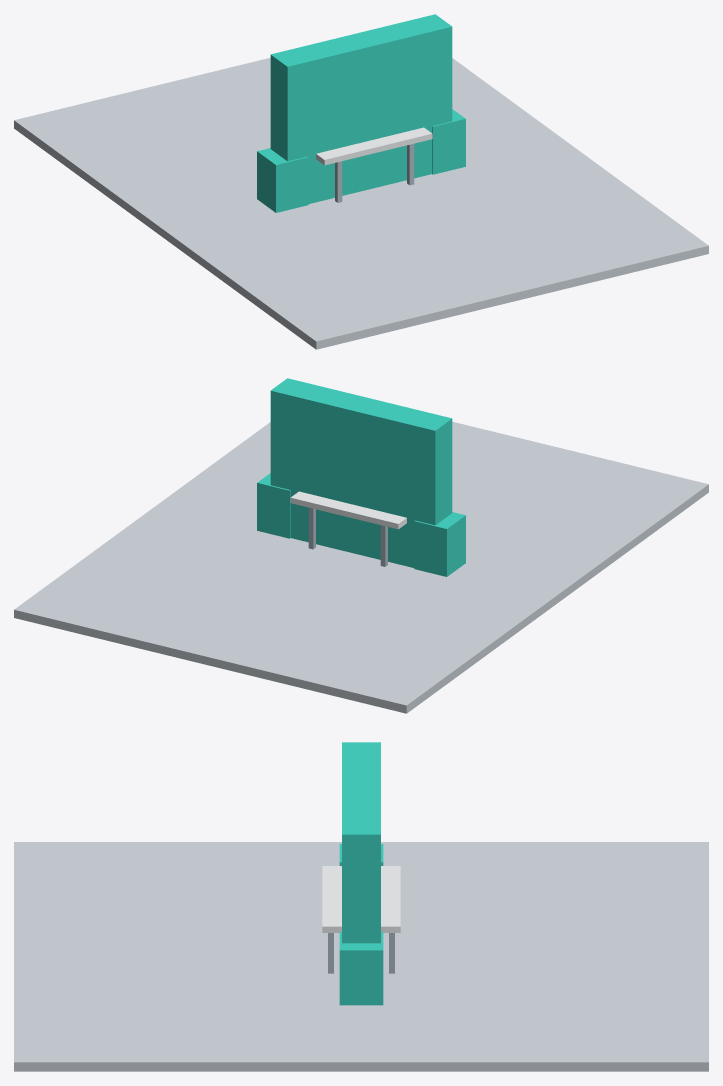
The picture shows the model from 3 angles, top to bottom: view 1: azimuth 30°, elevation 25°; view 2: azimuth 150°, elevation 25°; view 3: azimuth 270°, elevation 25°; orthographic projection. The views are drawn at different scales.
Visible parts, largest first — view 1: Exhibition Booth Concept; view 2: Exhibition Booth Concept; view 3: Exhibition Booth Concept.
Boxes of the visible parts, bbox=[...] form: Exhibition Booth Concept: bbox=[14, 14, 708, 349]; Exhibition Booth Concept: bbox=[14, 378, 708, 713]; Exhibition Booth Concept: bbox=[14, 742, 708, 1071].
Size of the model in its own units: 6 by 2.2 by 8.
